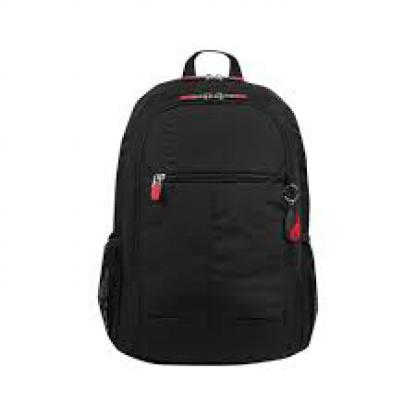morral: (87, 50, 331, 377)
